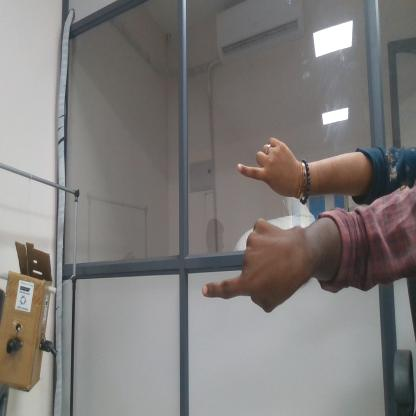Right: (198, 208, 302, 321), (227, 116, 304, 206)
